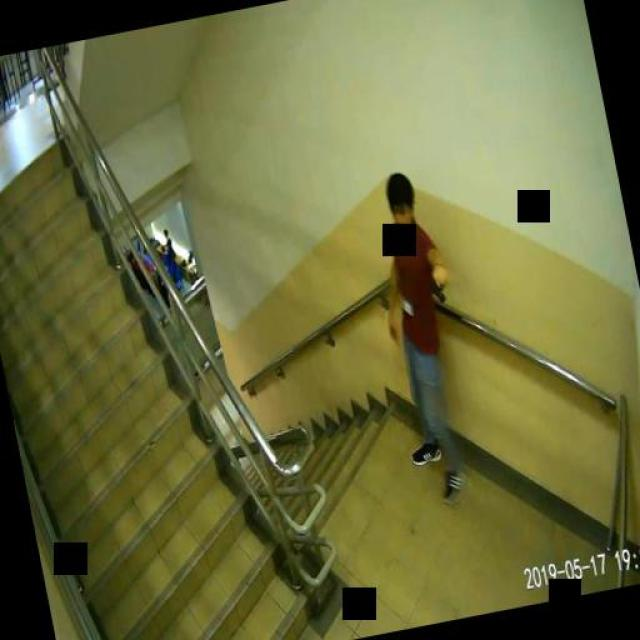gun: (426, 272, 450, 304)
